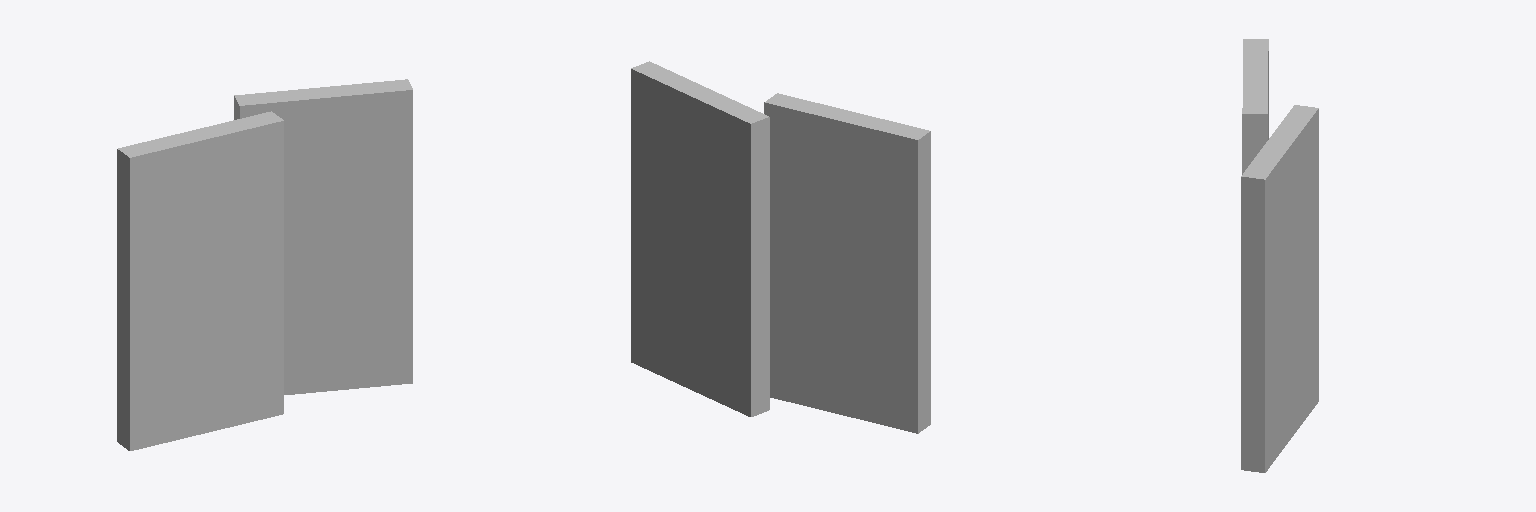
Rendered from wooden.obj.
The picture shows the model from 3 angles: view 1: azimuth 30°, elevation 25°; view 2: azimuth 150°, elevation 25°; view 3: azimuth 270°, elevation 25°; orthographic projection.
Visible parts, largest first — view 1: Cube.011_Cube.012, Cube.010; view 2: Cube.011_Cube.012, Cube.010; view 3: Cube.010, Cube.011_Cube.012.
Boxes of the visible parts, <box> form: Cube.011_Cube.012: <box>117,111,283,450</box>; Cube.010: <box>234,79,412,394</box>; Cube.011_Cube.012: <box>764,93,930,433</box>; Cube.010: <box>631,61,769,416</box>; Cube.010: <box>1241,105,1318,472</box>; Cube.011_Cube.012: <box>1242,39,1268,174</box>.
Bounding box in the file's own units: 5.29 × 5.14 × 1.24.